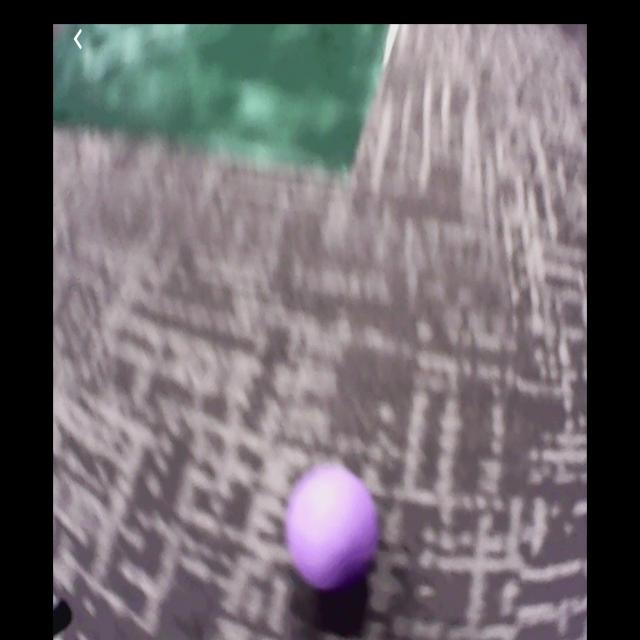ball: (288, 461, 377, 590)
